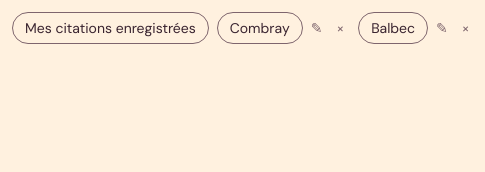
cancels the edit on Escape without renaming
Click the button named "Renommer Combray" at (317, 28), box [305, 17, 328, 39]
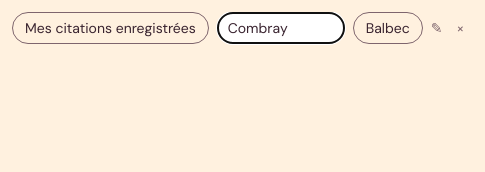
Type " modifié" into the field named "Renommer Combray" at (281, 28), box [217, 12, 345, 44]
Then press Escape
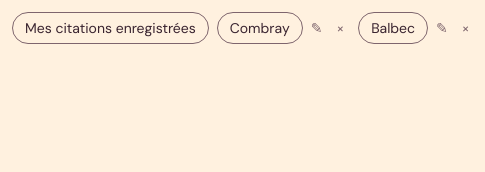
Check: the button "Combray" is shown, box [217, 12, 303, 44]
